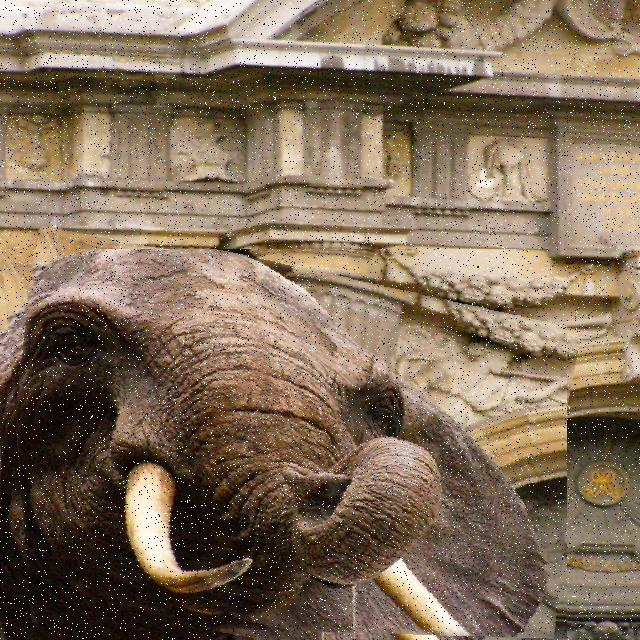elephant: (0, 249, 567, 640)
